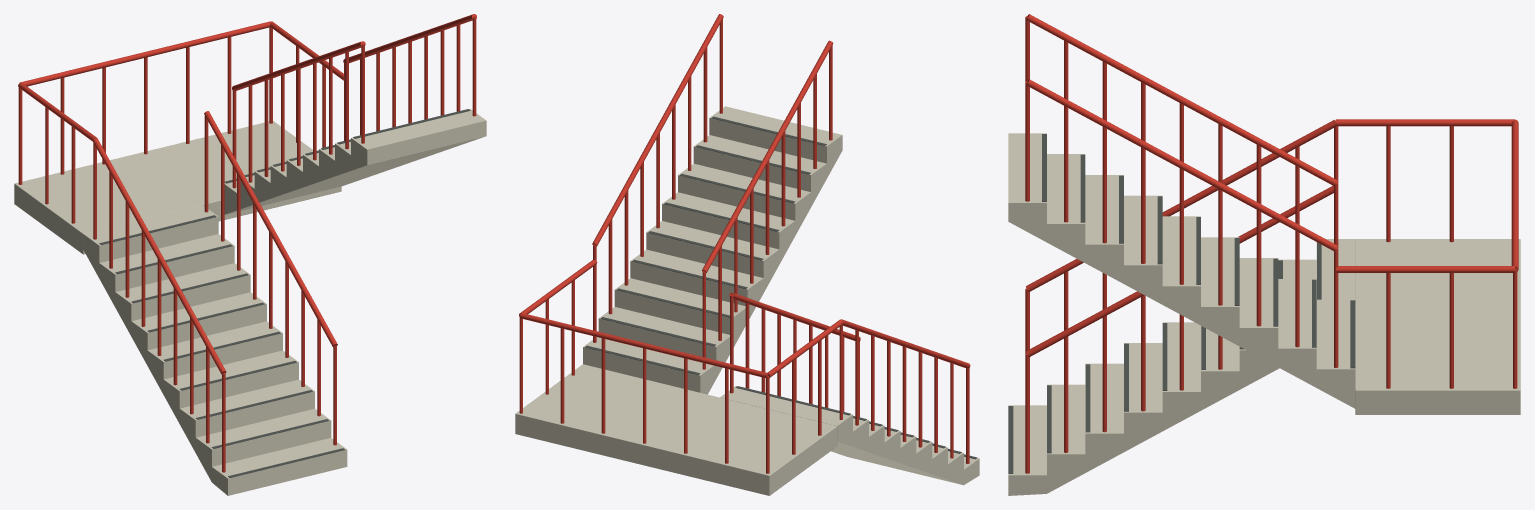
Rendered from source-edit.glb.
3 renders of one model, left to right at view 1: azimuth 30°, elevation 25°; view 2: azimuth 150°, elevation 25°; view 3: azimuth 270°, elevation 25°, orthographic. The views are drawn at different scales.
Visible parts, largest first — view 1: LANDING_HalfStorey, STEP_1_09, STEP_0_02, STEP_0_01, STEP_0_03, STEP_0_04, STEP_0_09, STEP_0_08, STEP_0_07, STEP_0_06, STEP_0_05, HANDRAIL_0_-1 (+14 smaller); view 2: LANDING_HalfStorey, STEP_1_03, STEP_1_05, STEP_1_06, STEP_1_08, STEP_1_09, STEP_1_07, STEP_1_04, STEP_1_01, STEP_1_02, STEP_0_09, HANDRAIL_1_1 (+13 smaller); view 3: LANDING_HalfStorey, STEP_1_01, STEP_0_03, STEP_1_03, STEP_0_02, STEP_1_04, STEP_1_05, STEP_1_02, STEP_1_06, STEP_1_08, STEP_1_09, STEP_0_05 (+32 smaller).
Part boxes in pixels (bbox=[...]): LANDING_HalfStorey: bbox=[14, 121, 341, 254]; STEP_1_09: bbox=[351, 109, 486, 170]; STEP_0_02: bbox=[195, 408, 331, 481]; STEP_0_01: bbox=[212, 438, 347, 495]; STEP_0_03: bbox=[179, 379, 314, 452]; STEP_0_04: bbox=[163, 350, 298, 423]; STEP_0_09: bbox=[83, 205, 218, 277]; STEP_0_08: bbox=[99, 234, 234, 306]; STEP_0_07: bbox=[115, 263, 250, 335]; STEP_0_06: bbox=[131, 292, 266, 365]; STEP_0_05: bbox=[147, 321, 282, 394]; HANDRAIL_0_-1: bbox=[92, 138, 226, 374]; LANDING_HalfStorey: bbox=[515, 364, 837, 495]; STEP_1_03: bbox=[614, 278, 745, 346]; STEP_1_05: bbox=[646, 221, 779, 292]; STEP_1_06: bbox=[662, 192, 795, 264]; STEP_1_08: bbox=[693, 135, 826, 206]; STEP_1_09: bbox=[709, 106, 842, 177]; STEP_1_07: bbox=[678, 163, 810, 235]; STEP_1_04: bbox=[630, 249, 763, 318]; STEP_1_01: bbox=[583, 337, 716, 394]; STEP_1_02: bbox=[598, 307, 729, 378]; STEP_0_09: bbox=[720, 386, 852, 446]; HANDRAIL_1_1: bbox=[592, 14, 723, 246]; LANDING_HalfStorey: bbox=[1355, 239, 1520, 414]; STEP_1_01: bbox=[1316, 299, 1355, 408]; STEP_0_03: bbox=[1085, 363, 1123, 472]; STEP_1_03: bbox=[1239, 258, 1278, 366]; STEP_0_02: bbox=[1047, 384, 1085, 493]; STEP_1_04: bbox=[1201, 237, 1239, 346]; STEP_1_05: bbox=[1162, 216, 1200, 325]; STEP_1_02: bbox=[1278, 279, 1316, 387]; STEP_1_06: bbox=[1124, 195, 1162, 304]; STEP_1_08: bbox=[1047, 154, 1085, 262]; STEP_1_09: bbox=[1008, 133, 1046, 242]; STEP_0_05: bbox=[1162, 322, 1200, 430].
Bounding box in the file's own units: 2.6 × 3.97 × 3.72.
